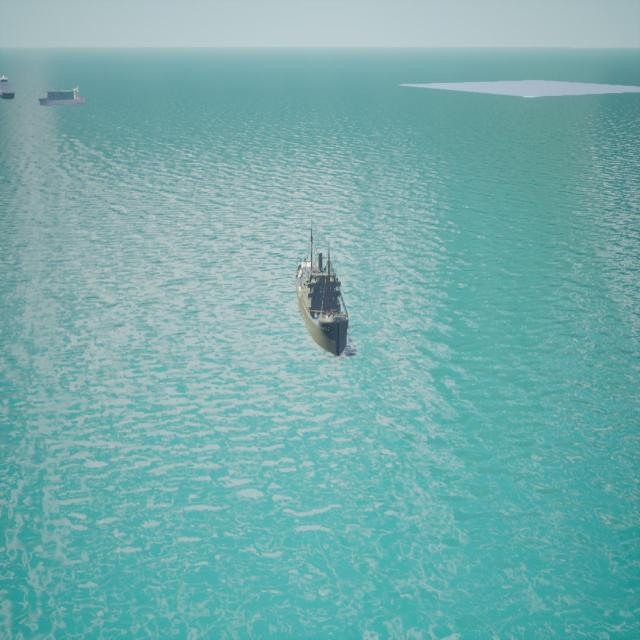fishing ship: (295, 227, 352, 358), (40, 88, 85, 106), (2, 76, 16, 98)
